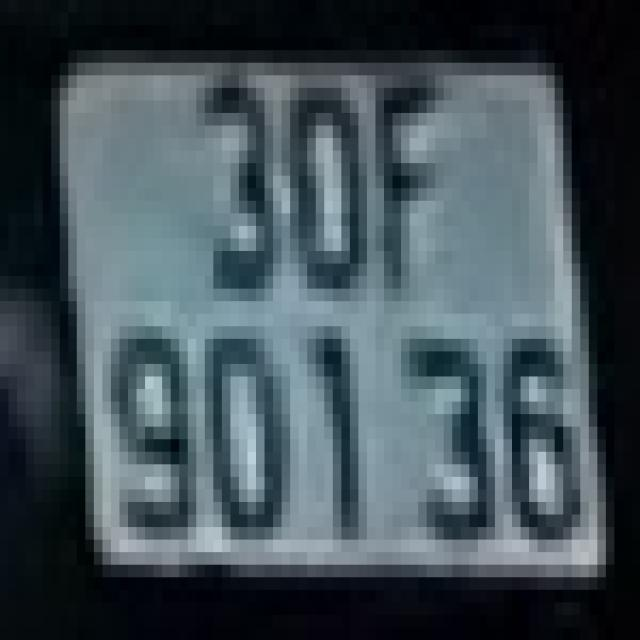0: (286, 75, 371, 289), (205, 326, 290, 540)
1: (312, 326, 371, 540)
3: (401, 326, 495, 540), (196, 75, 282, 301)
6: (504, 326, 580, 540)
9: (107, 326, 192, 540)
F: (376, 75, 452, 289)
